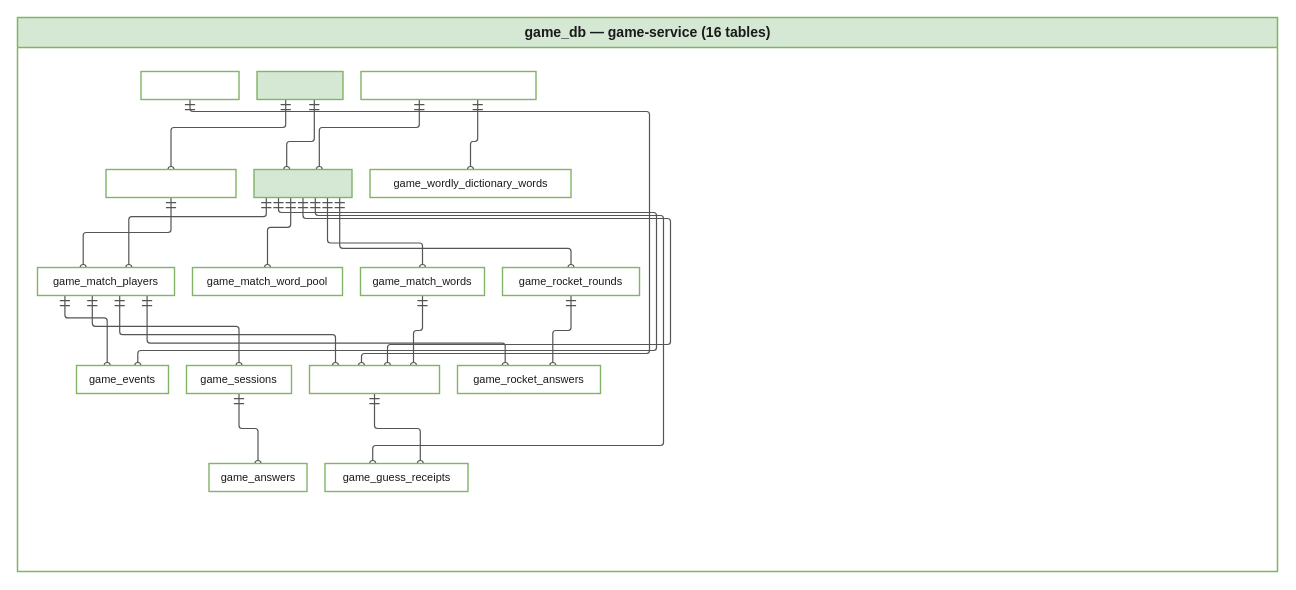
Image size: 1296x590. Some labels were removed from this diagram. The centre of each missing label's shape, as x and y in pixels:
game_guesses: the point at 189,85
game_matches: the point at 302,183
game_player_words: the point at 374,379
game_room_members: the point at 170,183
game_rooms: the point at 299,85
game_wordly_dictionaries: the point at 448,85
